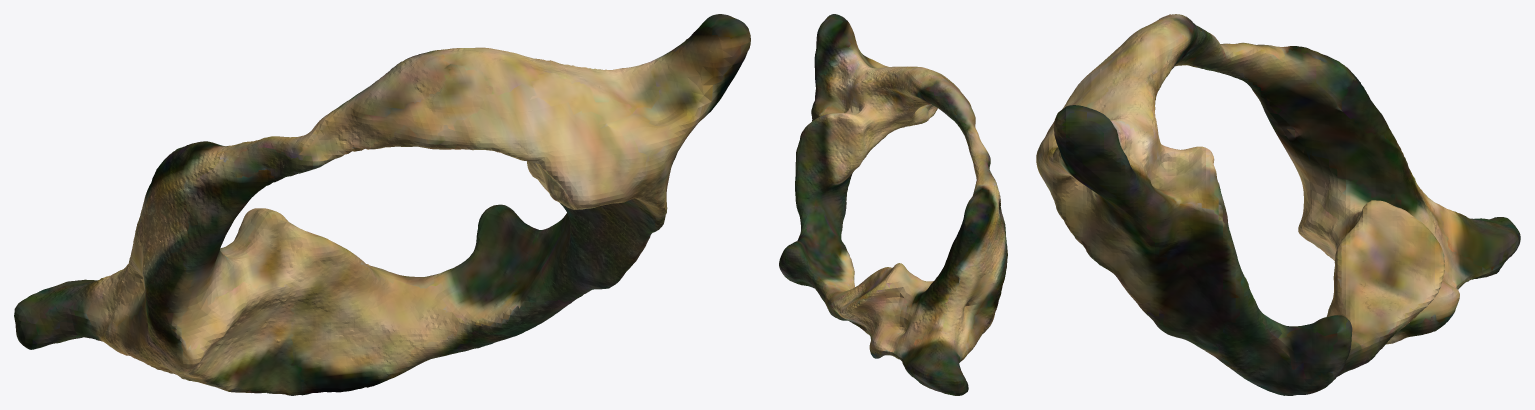
Rendered from 19_spine.glb.
3 views of the same model, side by side, from view 1: azimuth 30°, elevation 25°; view 2: azimuth 150°, elevation 25°; view 3: azimuth 270°, elevation 25° (orthographic). The views are drawn at different scales.
Parts seen in each view (by area): view 1: Node; view 2: Node; view 3: Node.
Part boxes in pixels (x1,y1,x2,y2): Node: (14, 14, 750, 395); Node: (779, 14, 1007, 395); Node: (1036, 14, 1520, 395).
Bounding box in the file's own units: 21.55 × 17.74 × 21.17.
Materials: 1 (1 with a texture image).
